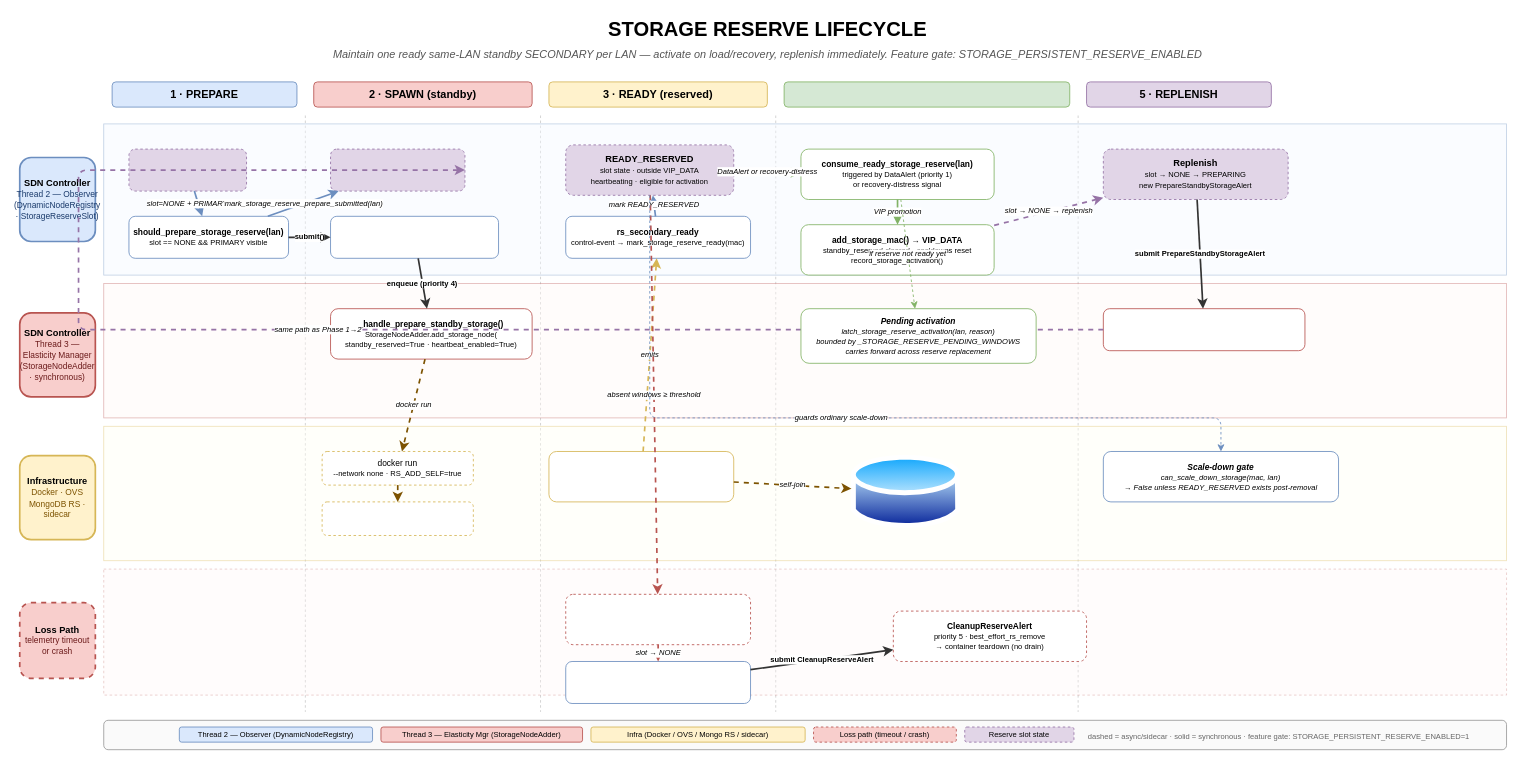
Image size: 1521x764. Some labels were removed from this diagram. Here are the shapes that lost their labels. From the top down, the box of each, then its label:
(783, 81, 1070, 107): 4 · ACTIVATE (load / recovery)
(128, 148, 247, 191): NONE slot state · no reserve
(330, 148, 465, 191): PREPARING slot state · creation in flight
(330, 215, 499, 258): PrepareStandbyStorageAlert priority 4 · submit() → T3 queue
(1102, 308, 1305, 351): StorageNodeAdder.add_storage_node() standby_reserved=True · same path as Phase 2
(548, 451, 734, 502): mongo_telemetry sidecar RS_ADD_SELF via RS_SEED_HOST → emits rs_secondary_ready
(321, 501, 473, 536): add_network_node.sh veth + OVS attach · IP/MAC
(565, 593, 751, 645): Loss detection telemetry timeout (absent windows) or crash / network partition
(565, 661, 751, 704): mark_storage_reserve_lost(mac) slot → NONE · preserve pending activation
(103, 719, 1507, 750): Legend
